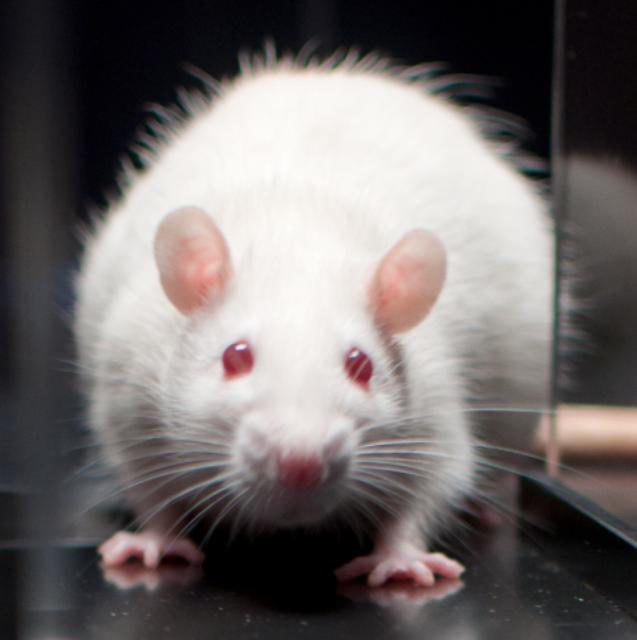rat: (45, 164, 517, 618)
